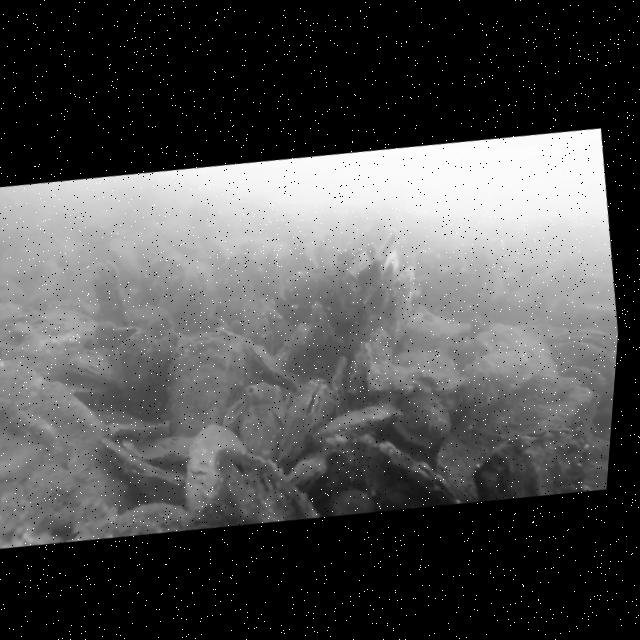Oyster-Closed: (152, 320, 264, 439), (346, 418, 466, 520), (465, 417, 597, 509), (209, 433, 324, 533), (109, 312, 189, 419), (265, 373, 347, 472), (95, 425, 190, 504), (306, 397, 406, 451), (384, 387, 458, 458), (336, 324, 401, 404), (541, 319, 619, 385), (120, 425, 199, 475), (407, 303, 472, 359), (245, 336, 304, 395), (282, 445, 338, 492), (237, 301, 281, 356), (302, 296, 343, 355), (275, 321, 315, 369), (324, 352, 354, 394)
Oyster-Indeterminate: (410, 358, 608, 505), (0, 384, 116, 543), (0, 345, 112, 478), (171, 416, 262, 519), (213, 377, 295, 478), (451, 345, 543, 410)
Oyster-Open: (362, 243, 429, 357), (85, 253, 139, 330), (59, 342, 125, 394)
